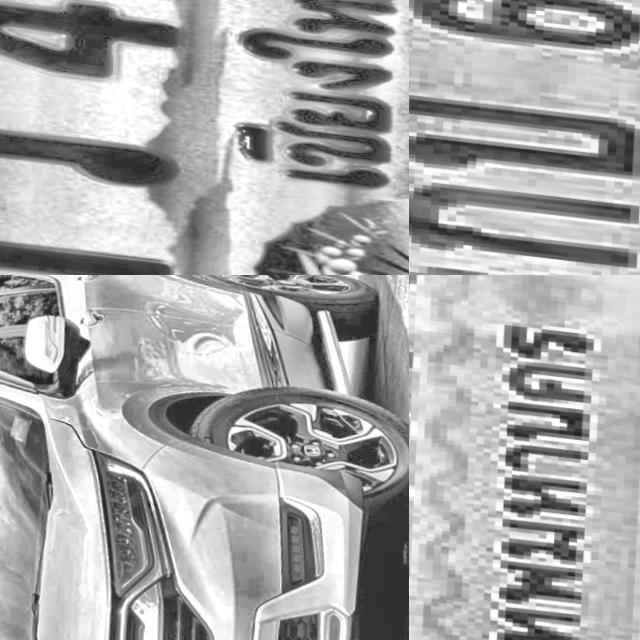license-plate: (0, 0, 409, 275), (409, 275, 640, 640), (409, 0, 640, 275)
